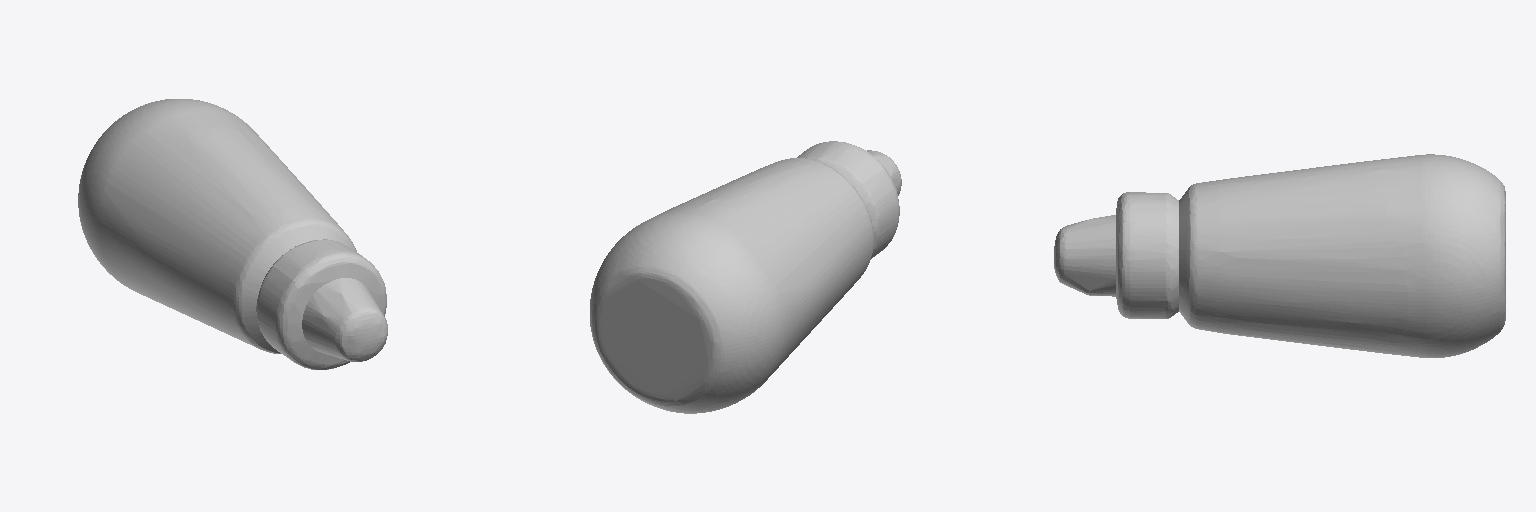
File: coacd_collision.obj
3 renders of one model, left to right at view 1: azimuth 30°, elevation 25°; view 2: azimuth 150°, elevation 25°; view 3: azimuth 270°, elevation 25°, orthographic.
Visible parts, largest first — view 1: geometry_0, geometry_2, geometry_1; view 2: geometry_0, geometry_2; view 3: geometry_0, geometry_2, geometry_1.
Boxes of the visible parts, box(x1,y1,x2,y2) form: geometry_0: box(78, 99, 356, 353); geometry_2: box(256, 239, 386, 369); geometry_1: box(302, 278, 387, 361); geometry_0: box(590, 158, 873, 413); geometry_2: box(797, 141, 899, 258); geometry_0: box(1179, 154, 1505, 357); geometry_2: box(1116, 192, 1178, 318); geometry_1: box(1054, 215, 1115, 296).
Bounding box in the file's own units: 68.05 × 68.09 × 151.